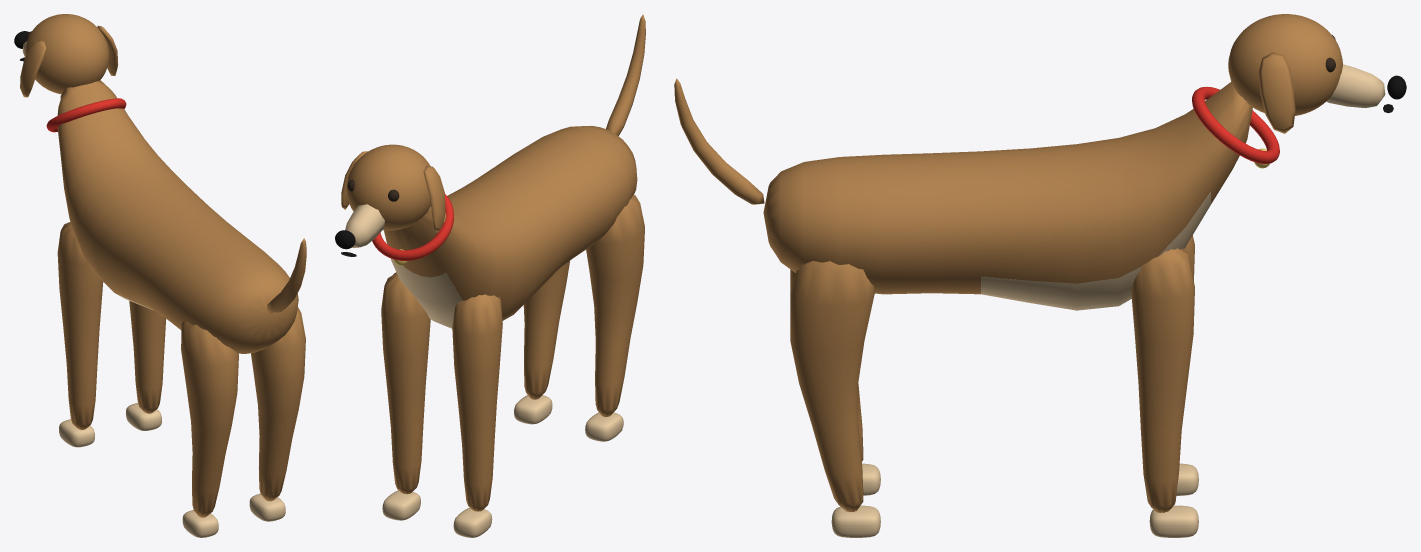
The model's file is dog.glb.
The picture shows the model from 3 angles, left to right: view 1: azimuth 30°, elevation 25°; view 2: azimuth 150°, elevation 25°; view 3: azimuth 270°, elevation 25°; orthographic projection. The views are drawn at different scales.
Parts seen in each view (by area): view 1: body.006, leg_rr, leg_rl, leg_fr, leg_fl; view 2: body.006, leg_fr, leg_rr, leg_fl, leg_rl; view 3: body.006, leg_rl, leg_fl, leg_fr, leg_rr.
Boxes of the visible parts, left/top/right/bottom form: body.006: left=14, top=14, right=306, bottom=353; leg_rr: left=181, top=321, right=238, bottom=537; leg_rl: left=249, top=307, right=305, bottom=521; leg_fr: left=57, top=222, right=103, bottom=447; leg_fl: left=125, top=301, right=165, bottom=430; body.006: left=335, top=14, right=645, bottom=328; leg_fr: left=452, top=294, right=502, bottom=537; leg_rr: left=585, top=195, right=644, bottom=441; leg_fl: left=381, top=272, right=430, bottom=520; leg_rl: left=514, top=261, right=569, bottom=424; body.006: left=674, top=14, right=1406, bottom=310; leg_rl: left=790, top=261, right=880, bottom=537; leg_fl: left=1131, top=248, right=1198, bottom=537; leg_fr: left=1176, top=235, right=1198, bottom=495; leg_rr: left=790, top=269, right=880, bottom=495.
Size of the model in its own units: 0.2521 by 0.8222 by 1.11.
